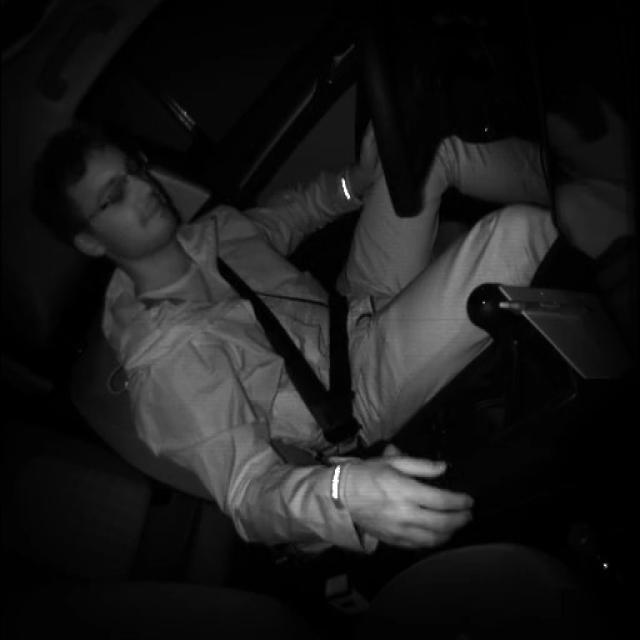pen: (498, 298, 600, 313)
